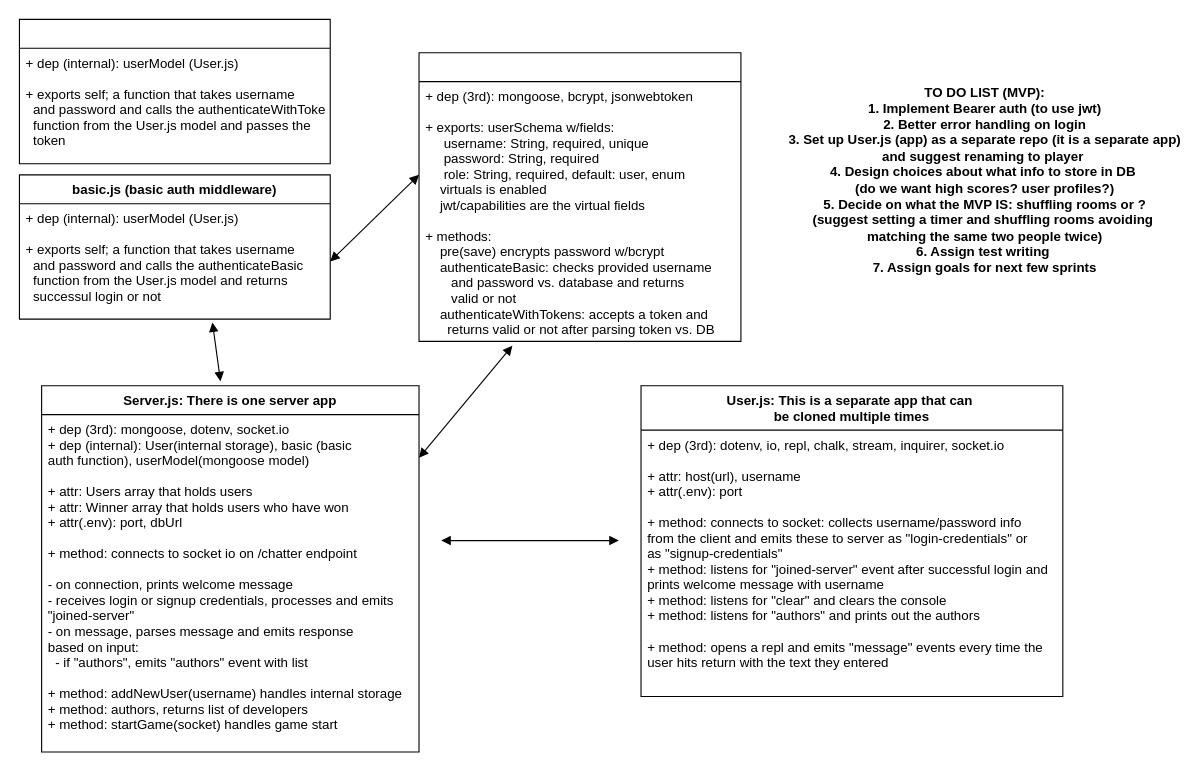
Some shapes in this 1204 by 775 pixel diagram are drawn without their labels. The shapes that lost their labels are listed below. From the top down, each one's box as (x1, y1, x2, y2) in pixels, then its label:
(18, 18, 330, 164): bearer auth (checks jwt) - not implemented yet
(418, 52, 741, 341): User.js (mongoDB schema)
